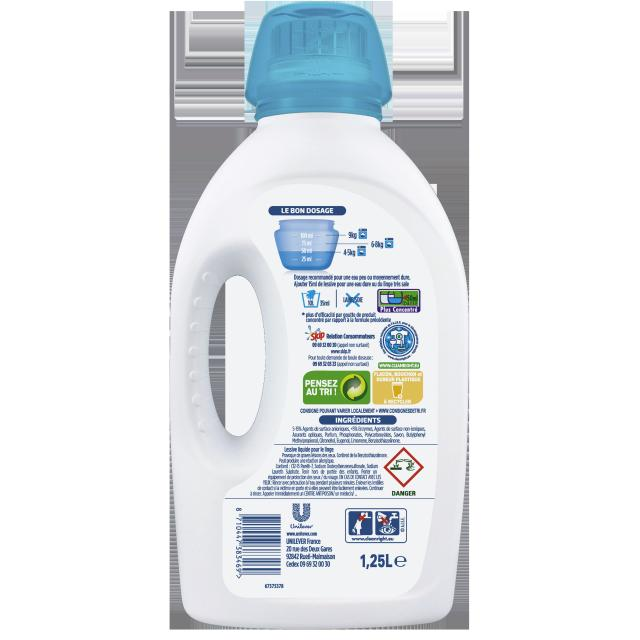GHS_Symbol_CORROSION: (383, 447, 424, 487)
